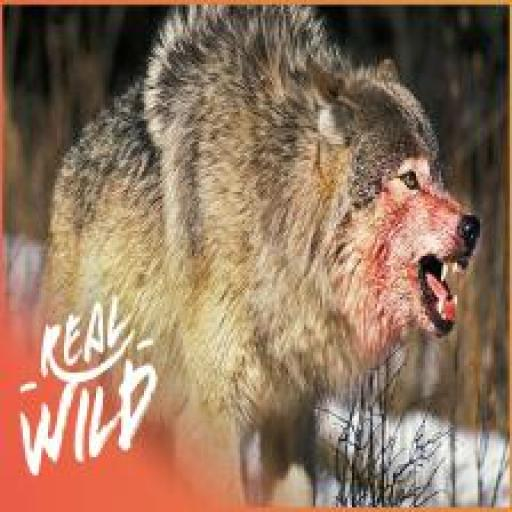wolf: (25, 0, 494, 512)
